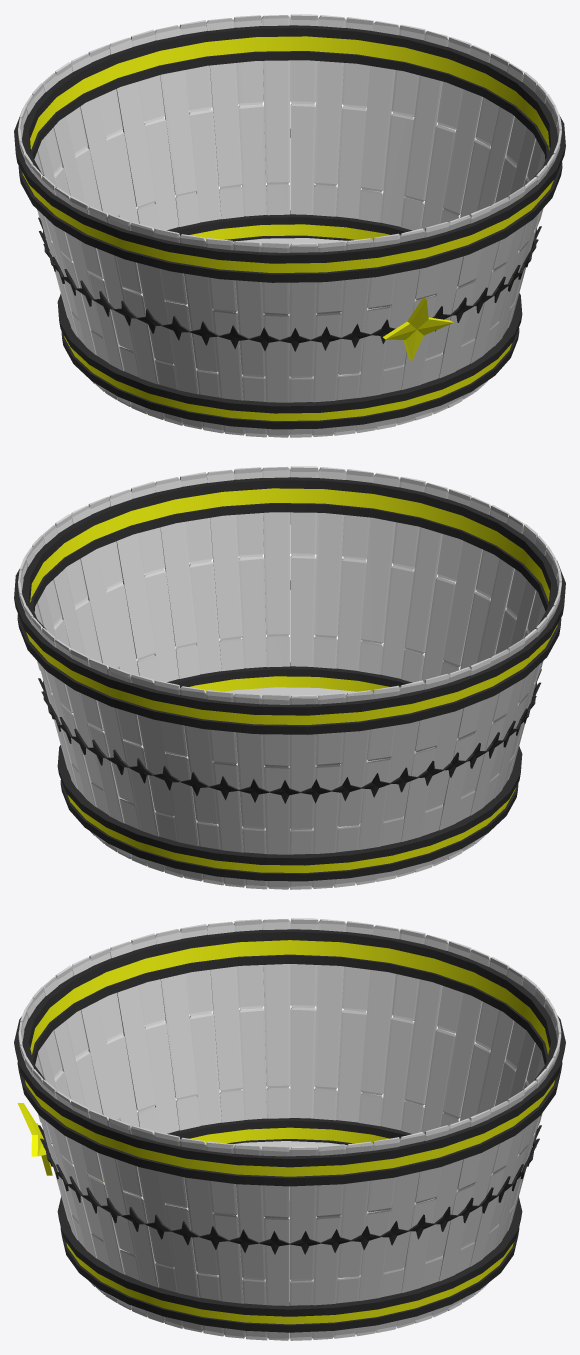
The model's file is SmallOnsenLvl2.fbx.
3 views of the same model, one above another, from view 1: azimuth 30°, elevation 25°; view 2: azimuth 150°, elevation 25°; view 3: azimuth 270°, elevation 25° (orthographic).
Parts seen in each view (by area): view 1: Onsen S.001, Band.006, Band.007, Star.001, Band.004; view 2: Onsen S.001, Band.006, Band.007, Star.001, Band.004; view 3: Onsen S.001, Band.006, Band.007, Star.001, Band.004.
Part boxes in pixels (left/top/right/bottom): Onsen S.001: left=18, top=14, right=561, bottom=437; Band.006: left=14, top=25, right=565, bottom=282; Band.007: left=57, top=210, right=522, bottom=429; Star.001: left=38, top=129, right=541, bottom=360; Band.004: left=119, top=238, right=457, bottom=378; Onsen S.001: left=18, top=466, right=561, bottom=889; Band.006: left=14, top=477, right=565, bottom=734; Band.007: left=57, top=662, right=522, bottom=881; Star.001: left=38, top=580, right=541, bottom=803; Band.004: left=119, top=687, right=457, bottom=830; Onsen S.001: left=18, top=918, right=561, bottom=1340; Band.006: left=14, top=929, right=565, bottom=1186; Band.007: left=57, top=1118, right=522, bottom=1332; Star.001: left=17, top=1103, right=541, bottom=1254; Band.004: left=120, top=1141, right=457, bottom=1301.
Size of the model in its own units: 38.07 by 16.64 by 38.07.
